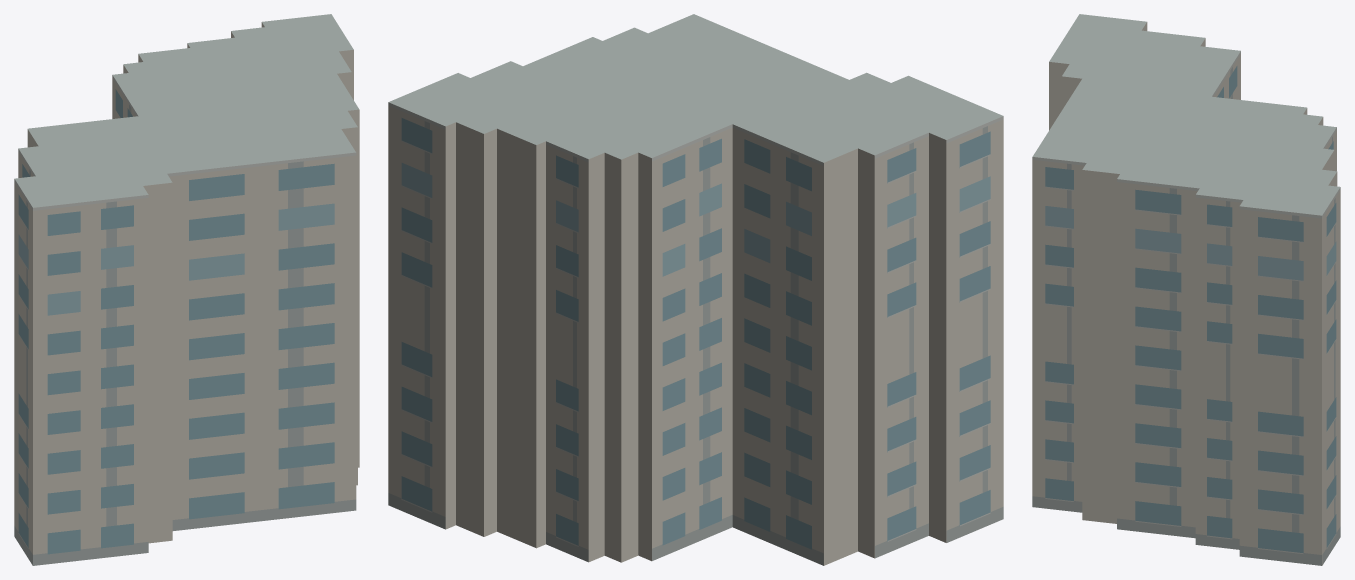
Rendered from residential-679ba8b0-1fb1-4f4c-a694-5025523d5e5a.glb.
3 views of the same model, side by side, from view 1: azimuth 30°, elevation 25°; view 2: azimuth 150°, elevation 25°; view 3: azimuth 270°, elevation 25° (orthographic). The views are drawn at different scales.
Parts seen in each view (by area): view 1: residential-679ba8b0-1fb1-4f4c-a694-5025523d5e5a.tmp; view 2: residential-679ba8b0-1fb1-4f4c-a694-5025523d5e5a.tmp; view 3: residential-679ba8b0-1fb1-4f4c-a694-5025523d5e5a.tmp.
Boxes of the visible parts, x1,y1,x2,y2 form: residential-679ba8b0-1fb1-4f4c-a694-5025523d5e5a.tmp: (14,14,359,565); residential-679ba8b0-1fb1-4f4c-a694-5025523d5e5a.tmp: (388,14,1003,565); residential-679ba8b0-1fb1-4f4c-a694-5025523d5e5a.tmp: (1032,14,1340,565).
Size of the model in its own units: 35.82 by 29 by 23.13.
